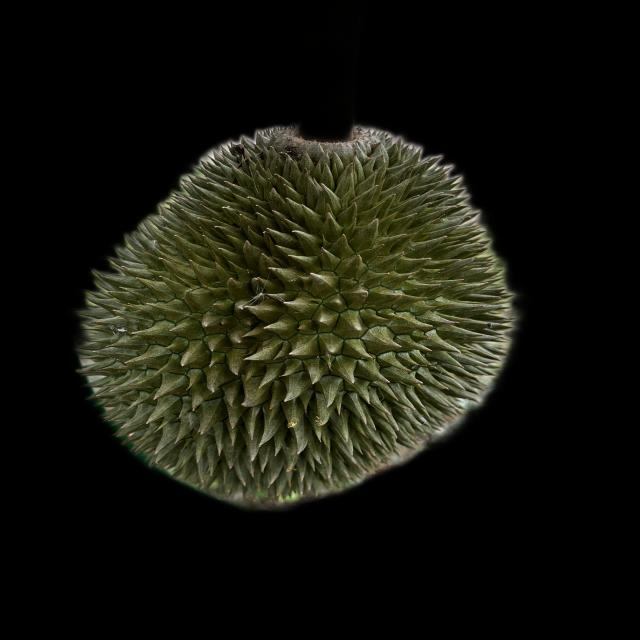immature: (72, 129, 520, 518)
